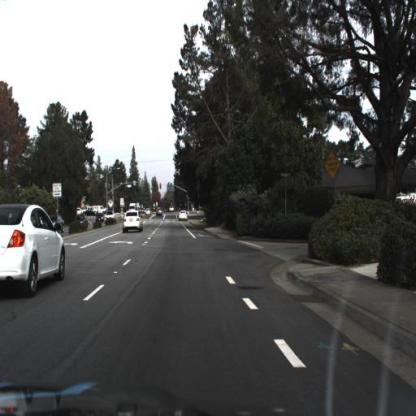car: (1, 200, 71, 306), (1, 202, 65, 289), (120, 210, 146, 235), (177, 207, 192, 228), (76, 212, 93, 227), (75, 215, 89, 229), (178, 208, 190, 224), (144, 207, 154, 220), (157, 207, 166, 220)
